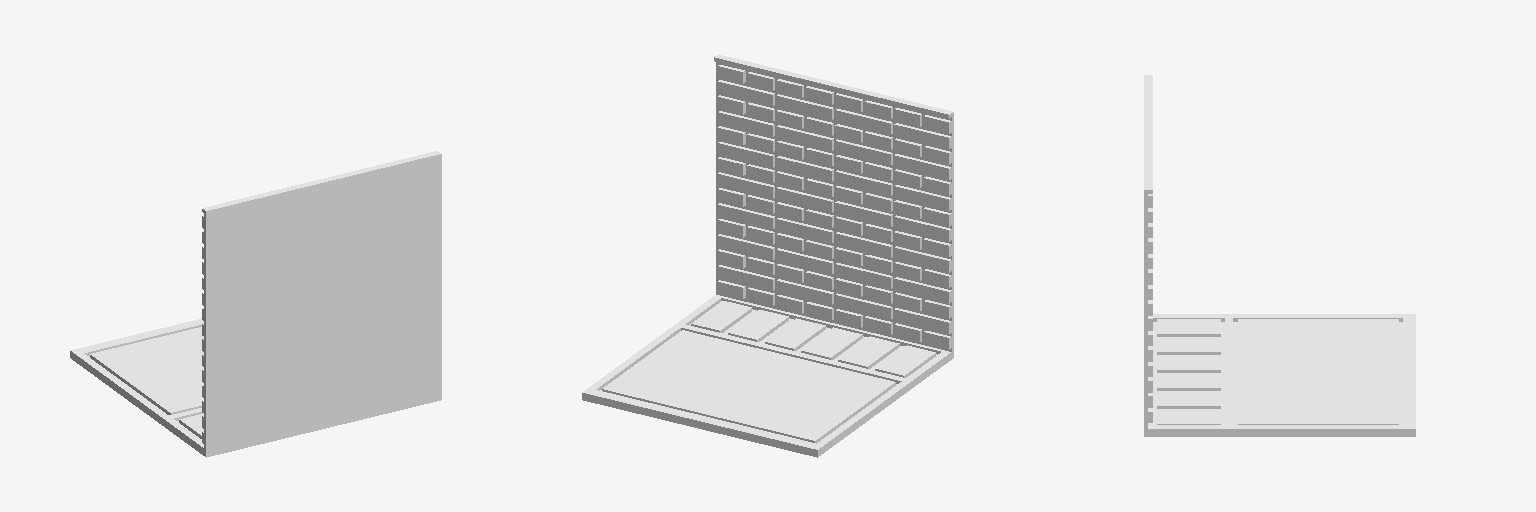
The model's file is e_corridor_gate_wallvox.obj.
3 renders of one model, left to right at view 1: azimuth 30°, elevation 25°; view 2: azimuth 150°, elevation 25°; view 3: azimuth 270°, elevation 25°, orthographic.
Parts seen in each view (by area): view 1: object 1; view 2: object 1; view 3: object 1.
Boxes of the visible parts, x1,y1,x2,y2 form: object 1: [70, 151, 441, 457]; object 1: [582, 54, 953, 457]; object 1: [1144, 75, 1415, 436].
Size of the model in its own units: 6.4 by 6.4 by 6.4.